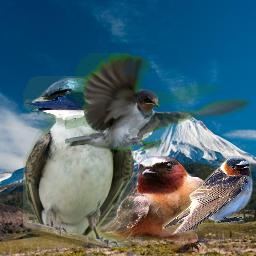Swallow: (23, 76, 134, 248), (65, 53, 250, 151), (100, 156, 217, 254), (162, 156, 253, 237), (23, 88, 102, 127)
